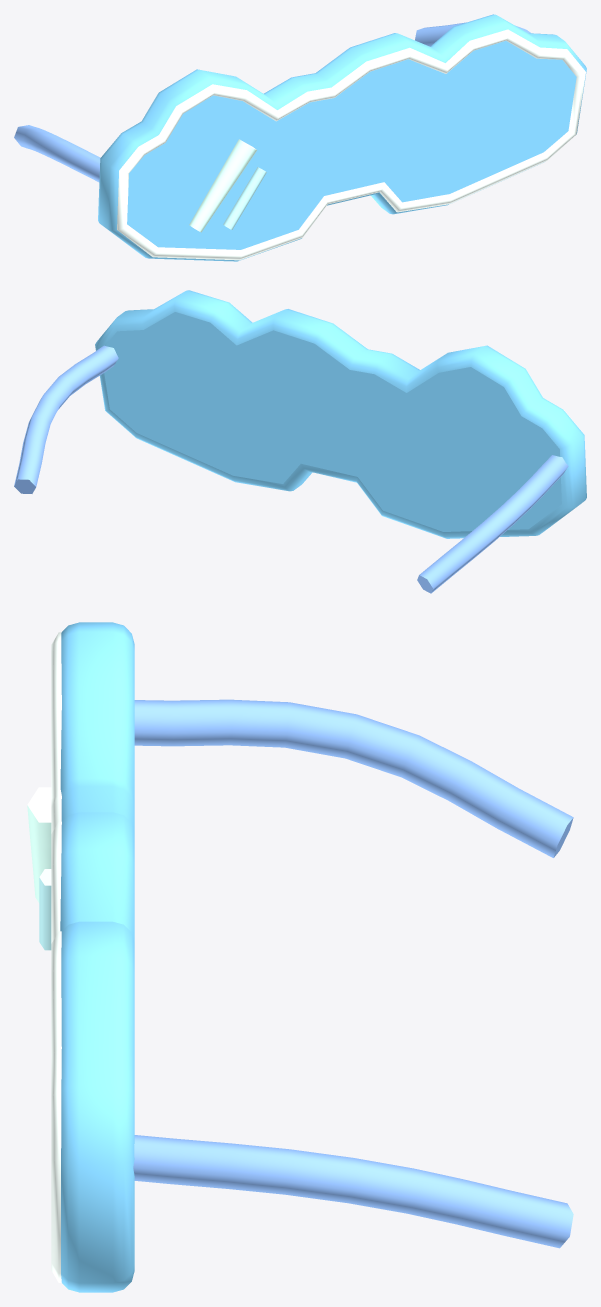
File: cloud_visor.glb
3 views of the same model, one above another, from view 1: azimuth 30°, elevation 25°; view 2: azimuth 150°, elevation 25°; view 3: azimuth 270°, elevation 25° (orthographic). The views are drawn at different scales.
Visible parts, largest first — view 1: Cloud Nine Visor; view 2: Cloud Nine Visor; view 3: Cloud Nine Visor.
Boxes of the visible parts, left/top/right/bottom form: Cloud Nine Visor: left=14, top=14, right=586, bottom=261; Cloud Nine Visor: left=14, top=290, right=586, bottom=593; Cloud Nine Visor: left=27, top=622, right=573, bottom=1292.
Bounding box in the file's own units: 1 × 0.3812 × 0.4934.
